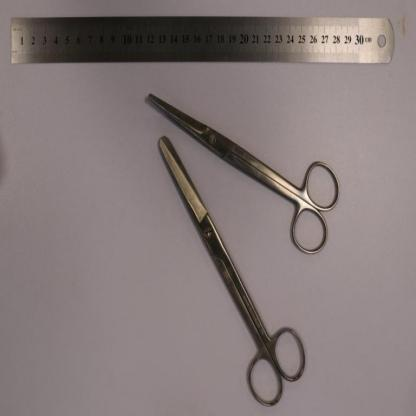Curved Mayo Scissors: (148, 92, 340, 256)
Dressing Scissors: (157, 136, 307, 407)
